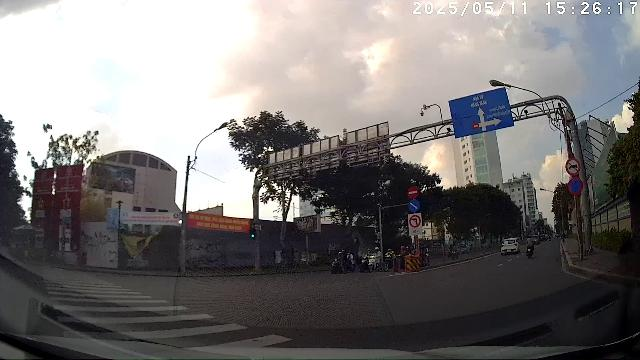102-cam-di-nguoc-chieu: (407, 186, 419, 198)
123a-cam-re-trai: (410, 214, 420, 228)
131a-cam-do-xe: (567, 176, 583, 196)
302a-huong-phai-di-vong-chuong-ngai-vat-1: (408, 199, 420, 212)
